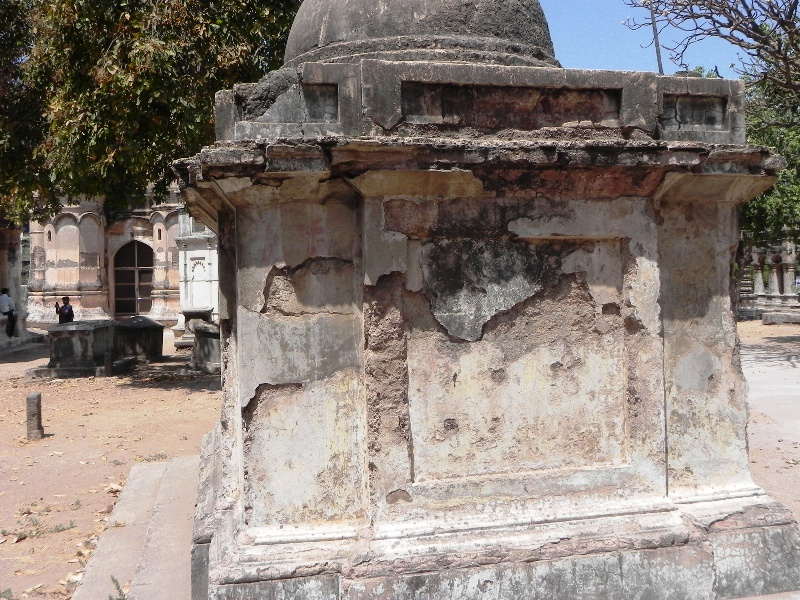Spalling: (360, 265, 418, 466), (616, 235, 648, 452), (237, 379, 302, 436)
